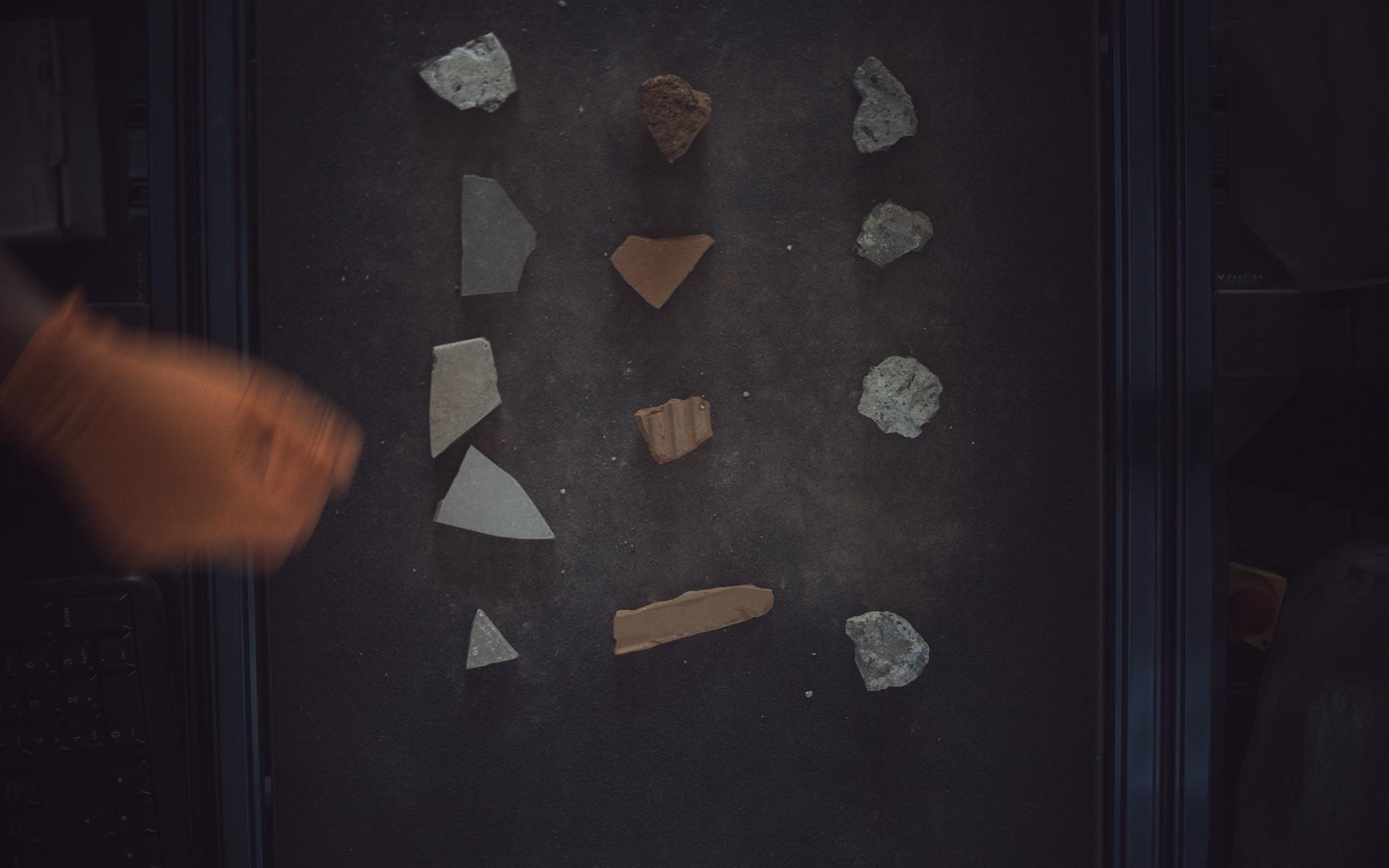brick: (614, 585, 774, 655), (613, 234, 715, 308), (637, 73, 713, 162), (634, 396, 713, 464)
concrete: (860, 356, 945, 438), (847, 612, 931, 692), (854, 55, 919, 152), (857, 200, 935, 266)
tile: (434, 446, 555, 540), (462, 174, 536, 296), (430, 339, 501, 457), (420, 31, 517, 111), (467, 610, 519, 671)
